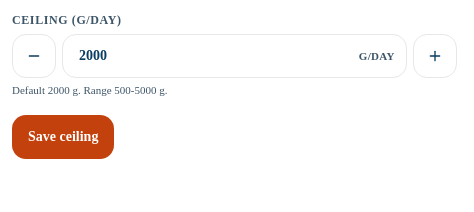
Test: DeviceDailyCapForm › clears a stored ceiling and saves the retyped number (issue #307)
Clear the number field labelled "Ceiling (g/day)": coordinates (234, 56) [62,34,407,78]
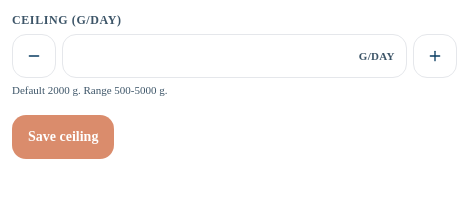
In the number field labelled "Ceiling (g/day)": coordinates (234, 56) [62,34,407,78], type "2500"
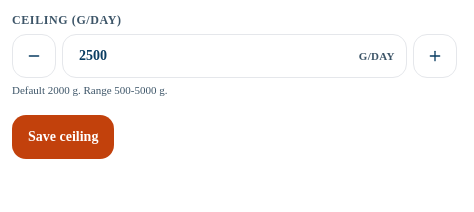
Click the button "Save ceiling": coordinates (63, 136) [12,114,114,158]
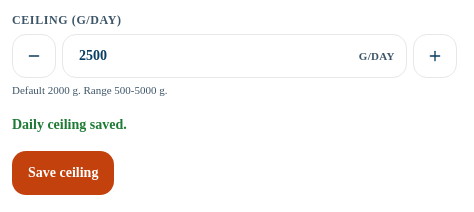
Now the text "Daily ceiling saved." is shown, box [12,116,127,132]
